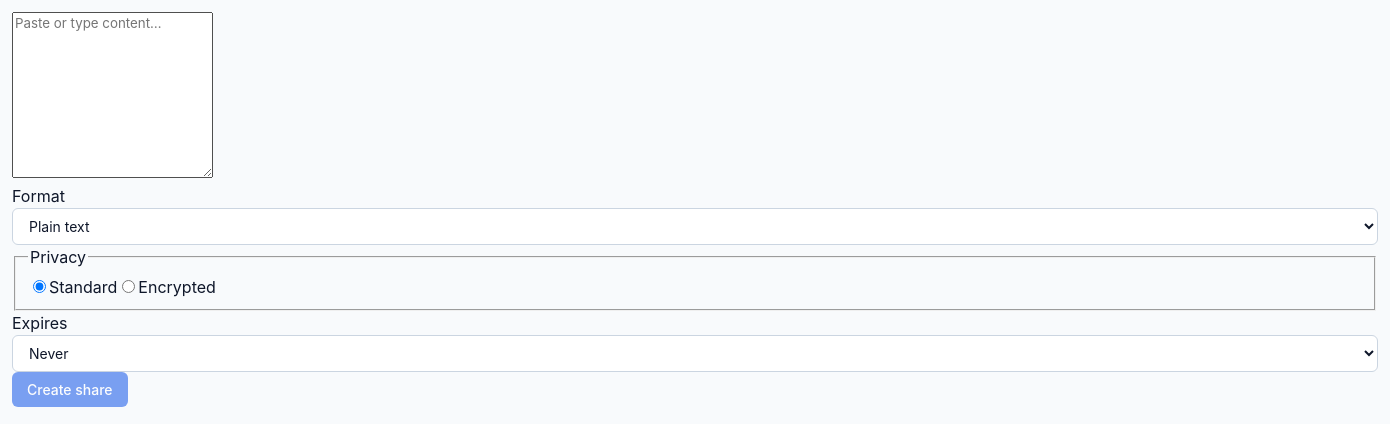
TextCreateForm › disables submit button when content is empty
Expected: the button "Create share" is disabled, left=12, top=372, right=128, bottom=407
Type "non-empty" into the text box labelled "content" at (112, 95), box left=12, top=12, right=213, bottom=178
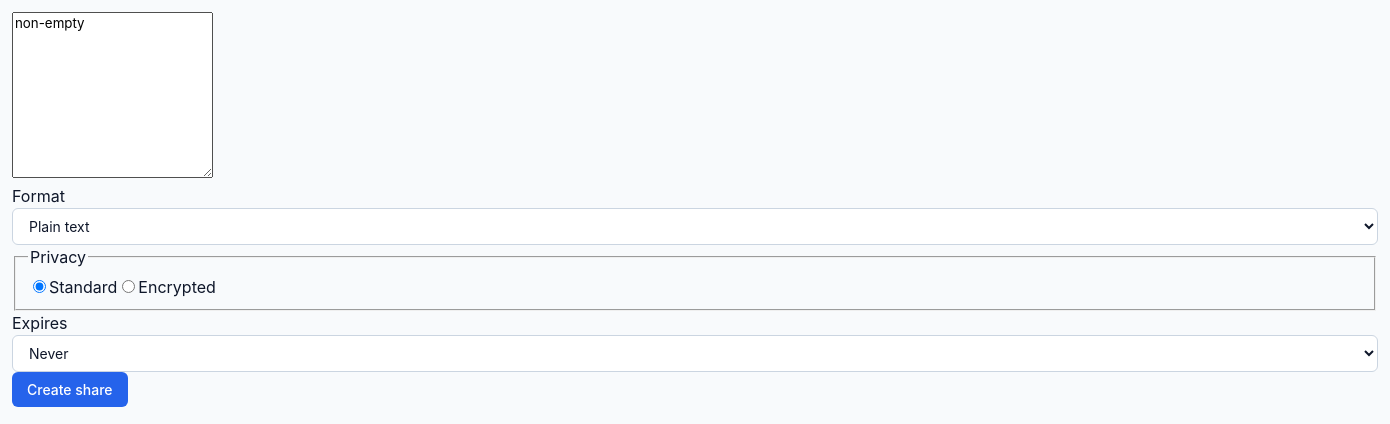
Now the button "Create share" is enabled, box left=12, top=372, right=128, bottom=407
